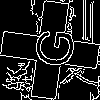G: (25, 25, 76, 70)
